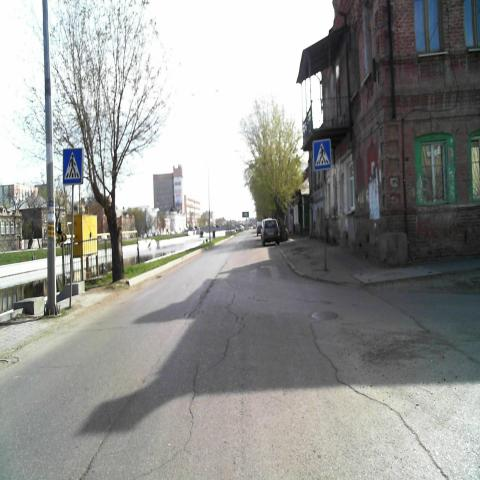5_19_1: (314, 138, 332, 170)
